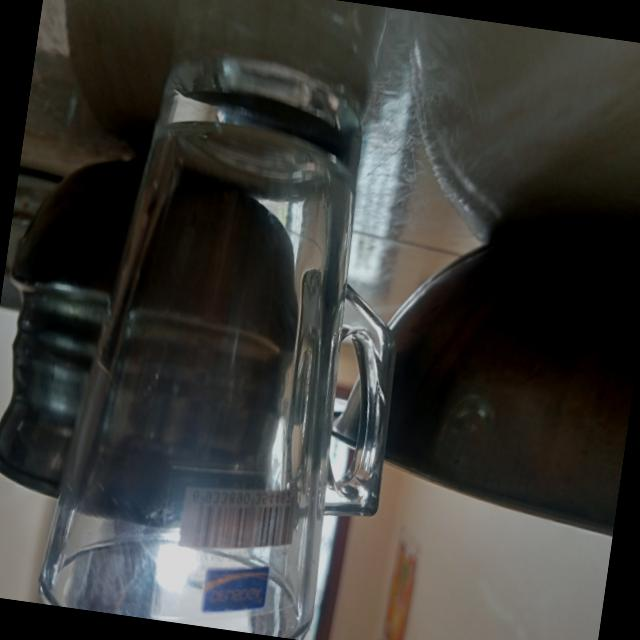glass-VX4N: (34, 36, 436, 640)
